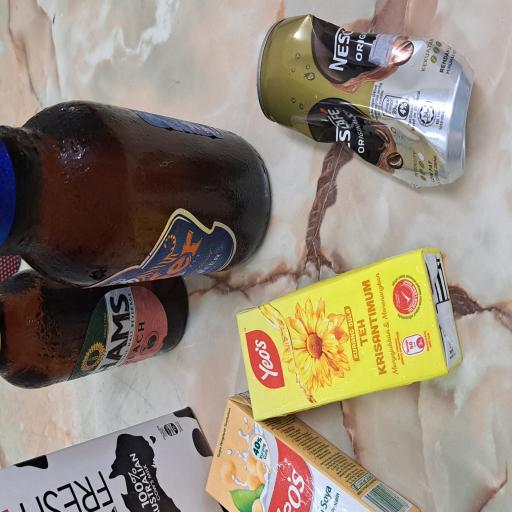can: (245, 340, 372, 512)
drink carton: (68, 315, 198, 512), (0, 0, 79, 304), (0, 275, 89, 512)
glass bottle: (178, 0, 308, 363), (92, 0, 182, 253)
